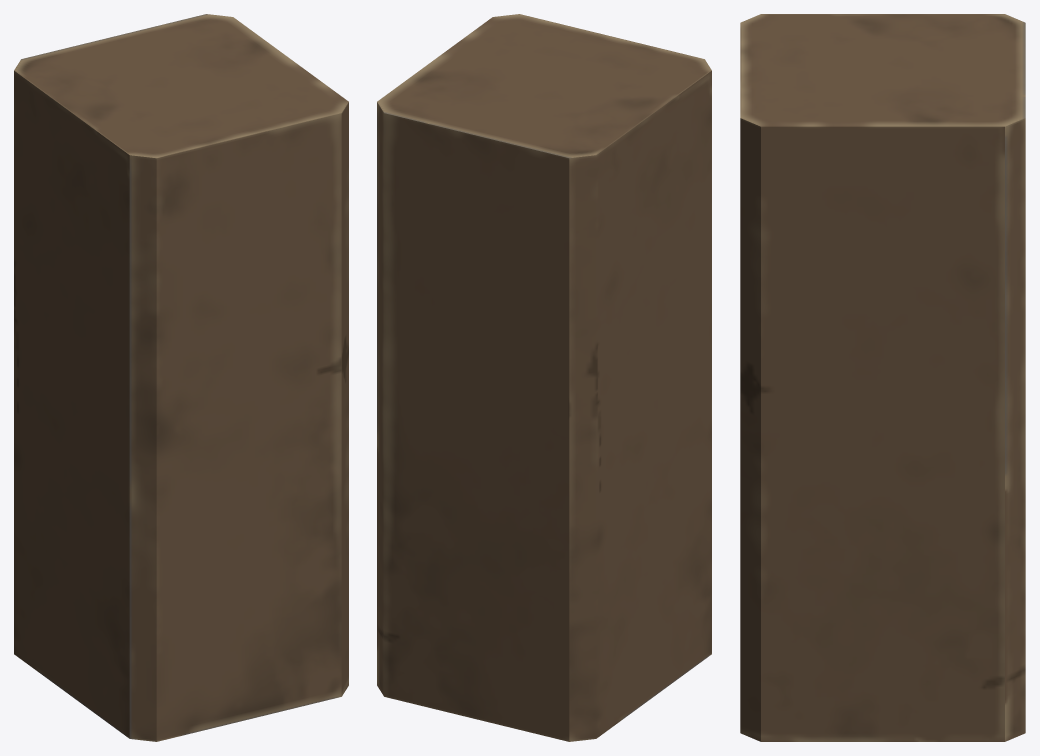
File: house_collection_3.fbx
3 views of the same model, side by side, from view 1: azimuth 30°, elevation 25°; view 2: azimuth 150°, elevation 25°; view 3: azimuth 270°, elevation 25° (orthographic). The views are drawn at different scales.
Parts seen in each view (by area): view 1: house_collection_3; view 2: house_collection_3; view 3: house_collection_3.
Boxes of the visible parts, <box> form: house_collection_3: <box>14,14,348,741</box>; house_collection_3: <box>377,14,711,741</box>; house_collection_3: <box>740,14,1025,741</box>.
Size of the model in its own units: 107 by 272 by 114.
